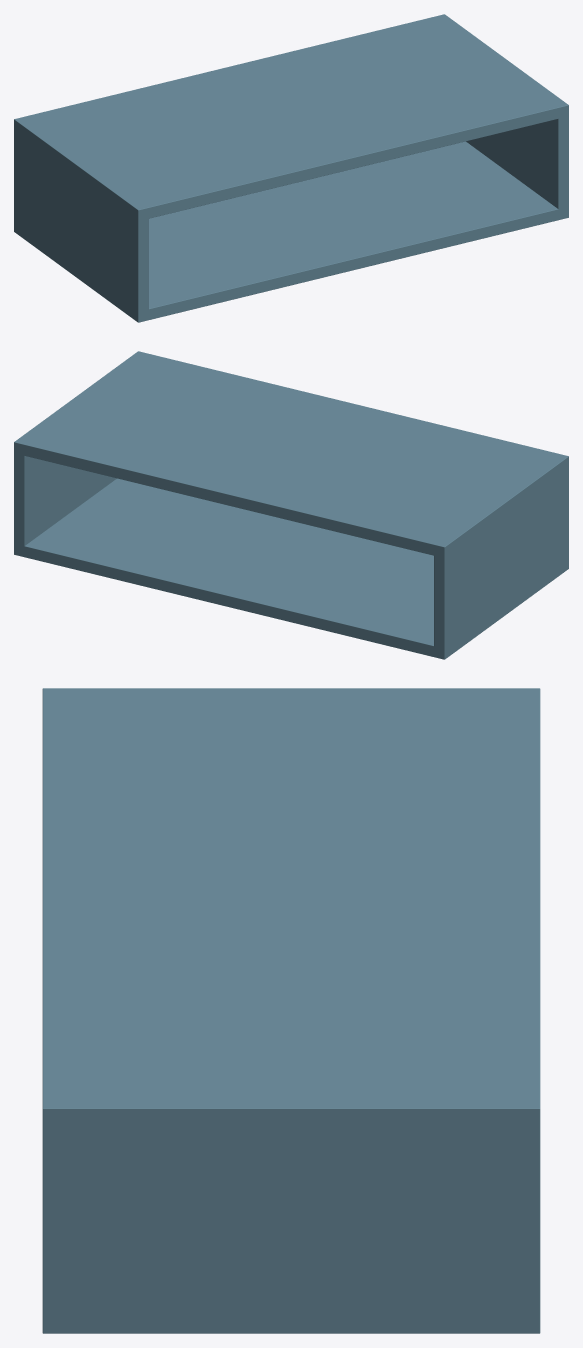
The model's file is MOD-2X05-A-O-AC.glb.
The picture shows the model from 3 angles, top to bottom: view 1: azimuth 30°, elevation 25°; view 2: azimuth 150°, elevation 25°; view 3: azimuth 270°, elevation 25°; orthographic projection. The views are drawn at different scales.
Bounding box in the file's own units: 720 × 180 × 360.
